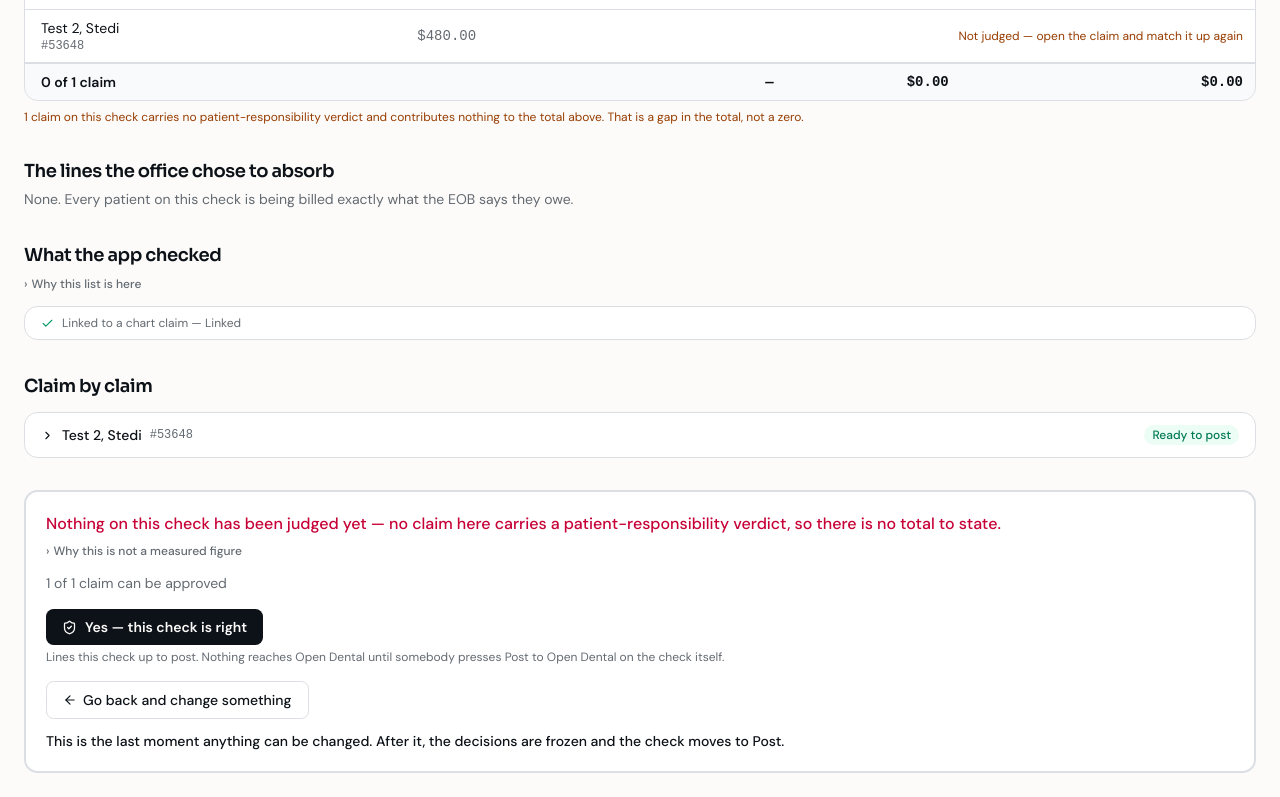
Test: an already-approved answer routes to the Posting screen, never back to the button › an ordinary refusal still reads as one
This screenshot has width=1280, height=797.
(page scrolled)
Click the button with test id "approve-button" at [155, 627], box [46,609,263,645]
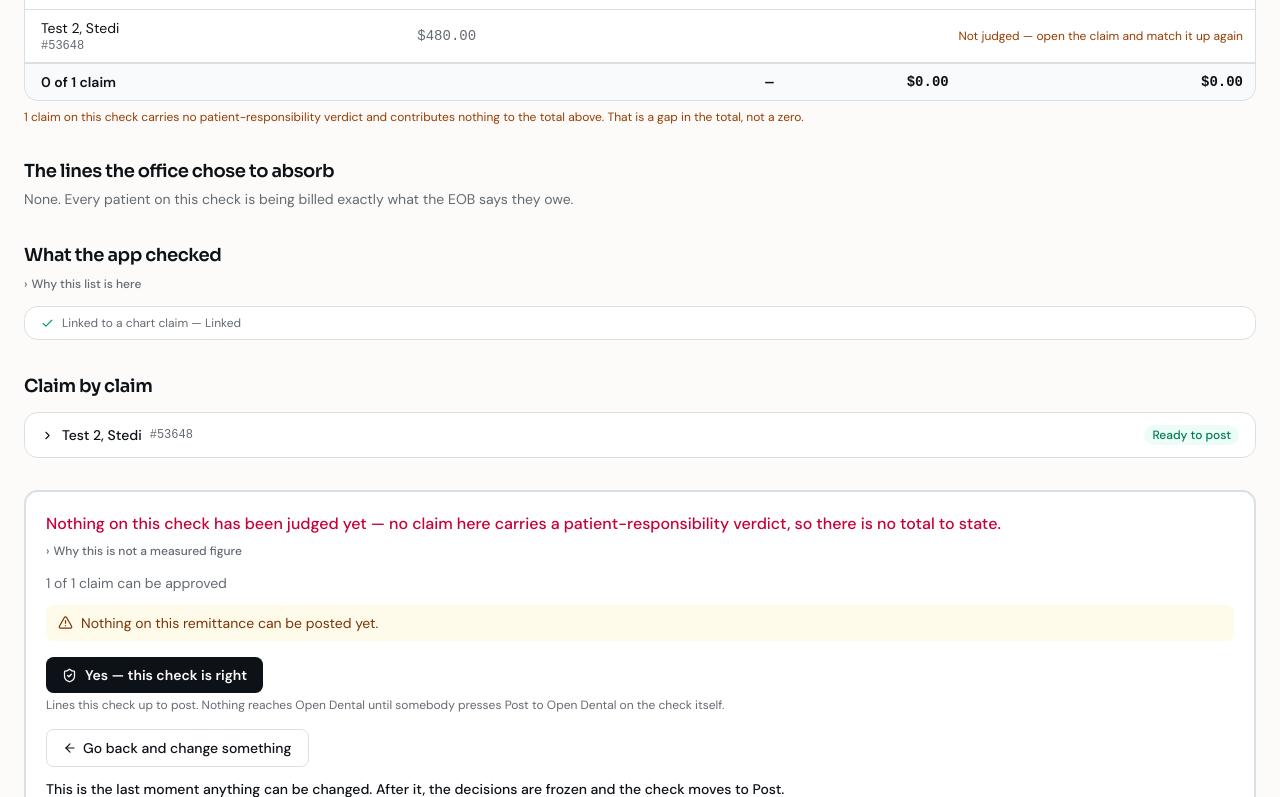
Expected: the element with test id "approve-error" shows "can be posted yet", [81,614,378,632]
